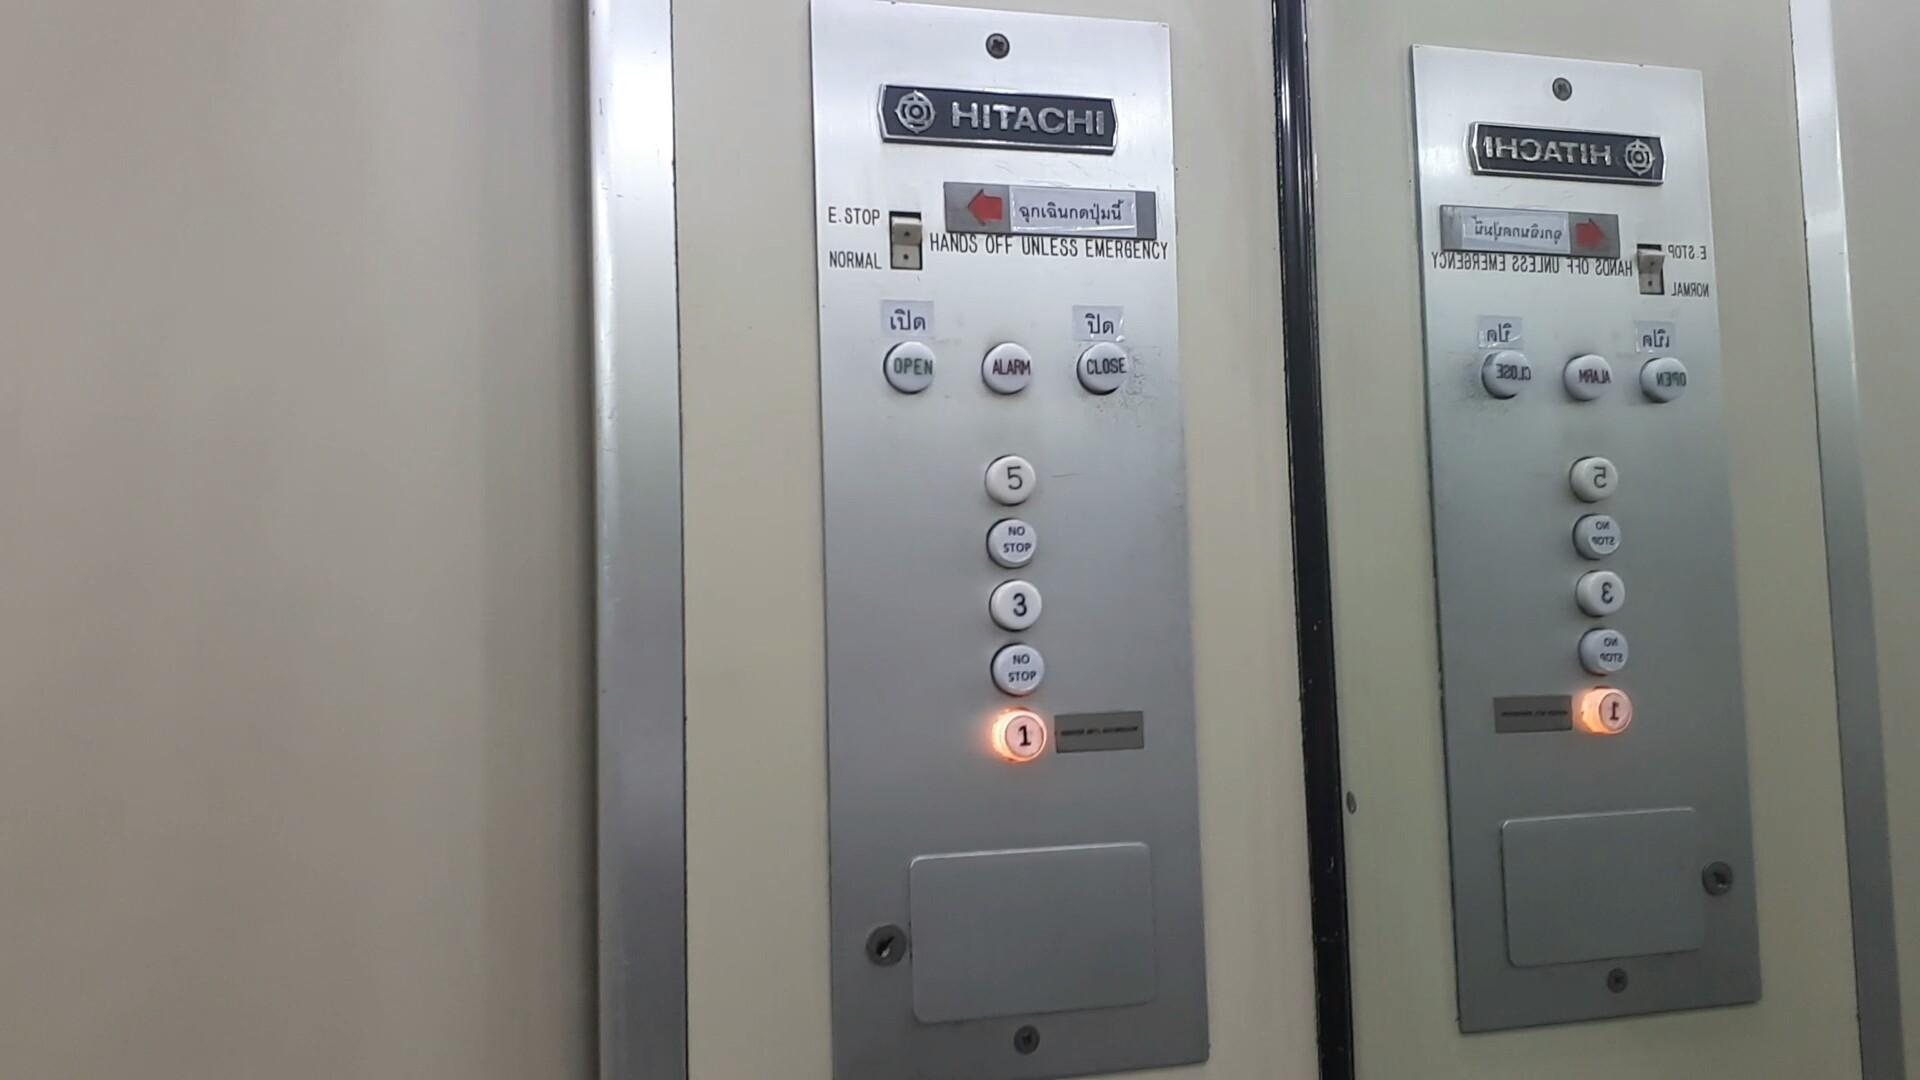1: (990, 705, 1048, 761)
3: (988, 578, 1043, 634)
5: (985, 454, 1035, 508)
switch: (1633, 237, 1672, 301), (887, 208, 926, 273)
text_alarm: (882, 339, 939, 397)
text_close: (1076, 339, 1131, 396)
text_nostop: (986, 642, 1048, 699), (982, 517, 1040, 568)
text_open: (978, 339, 1036, 400)
unknown: (1582, 680, 1639, 738), (1481, 345, 1538, 402), (1638, 351, 1695, 407), (1571, 506, 1627, 563), (1567, 448, 1622, 506), (1578, 622, 1634, 680), (1561, 348, 1617, 405), (1575, 566, 1630, 622)
